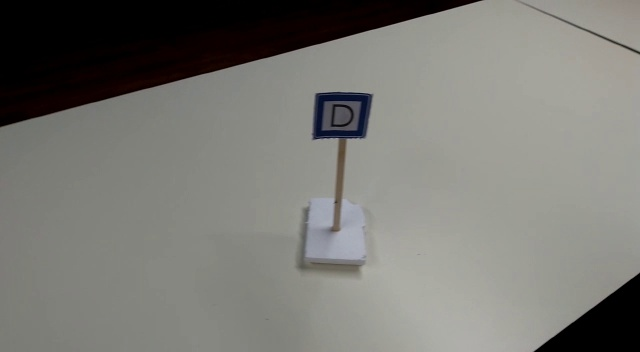durak: (314, 91, 372, 137)
